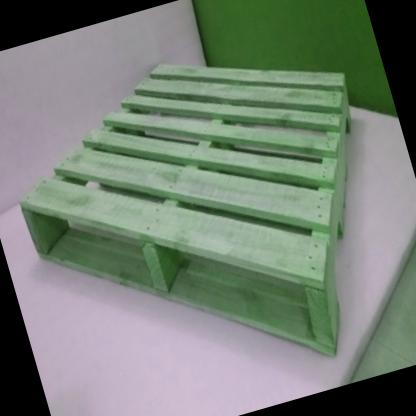BoxFace: (16, 57, 354, 359)
